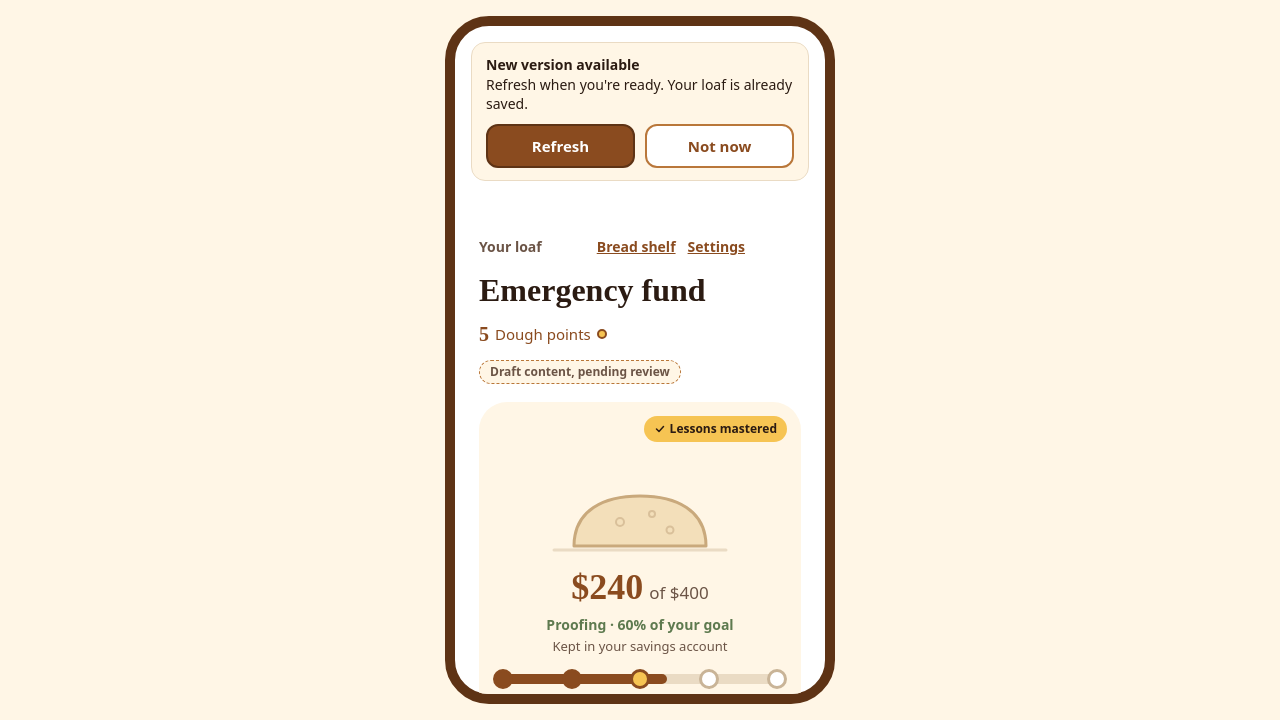
Scenario: the daily quiz popup and the update banner › waits while "New version available" is showing, and opens once it is dismissed
Expected: the text "New version available" is shown, top-left (486, 55), bottom-right (640, 74)
Expected: the link "5 Dough points" is shown, top-left (479, 323), bottom-right (607, 345)
Click the button "Not now": (720, 146) top-left (645, 124), bottom-right (794, 168)
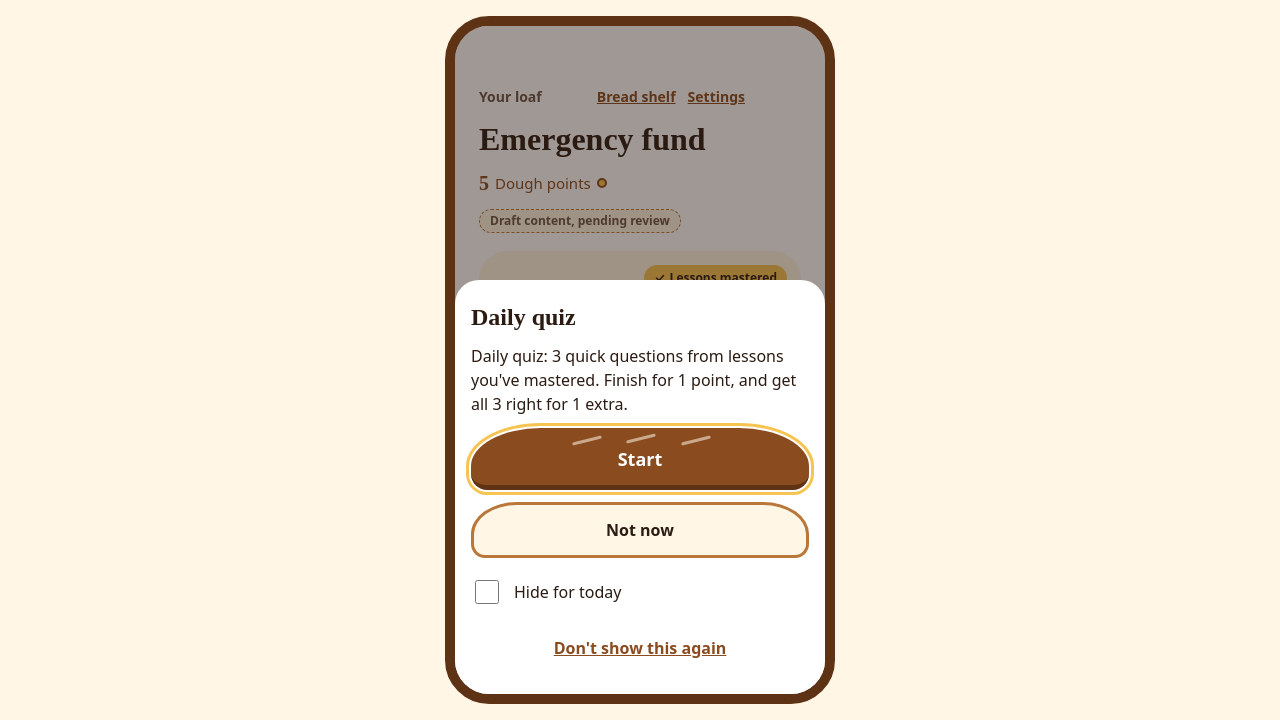
Now the text "New version available" is gone
Now the dialog "Daily quiz" is shown, box top-left (455, 26), bottom-right (825, 694)
